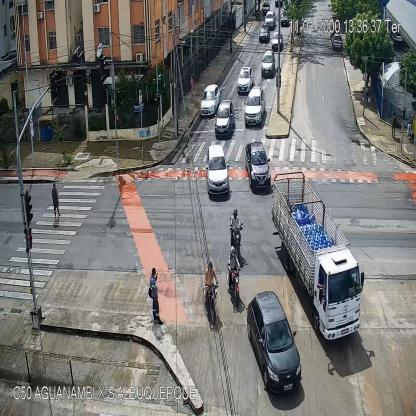car: (248, 291, 300, 392), (205, 145, 230, 194), (245, 143, 271, 188), (244, 87, 266, 123), (215, 100, 235, 137), (199, 84, 220, 116), (237, 67, 253, 93), (261, 49, 275, 75), (272, 31, 283, 50), (258, 25, 270, 42), (332, 35, 343, 50), (265, 11, 275, 26), (280, 13, 290, 28), (262, 2, 270, 15)
motorbike: (205, 261, 218, 327), (228, 247, 241, 308), (230, 208, 242, 264)
person: (149, 266, 161, 328), (51, 182, 60, 221), (391, 112, 396, 137), (190, 75, 194, 97), (366, 84, 368, 104)
truck: (272, 174, 364, 338)
